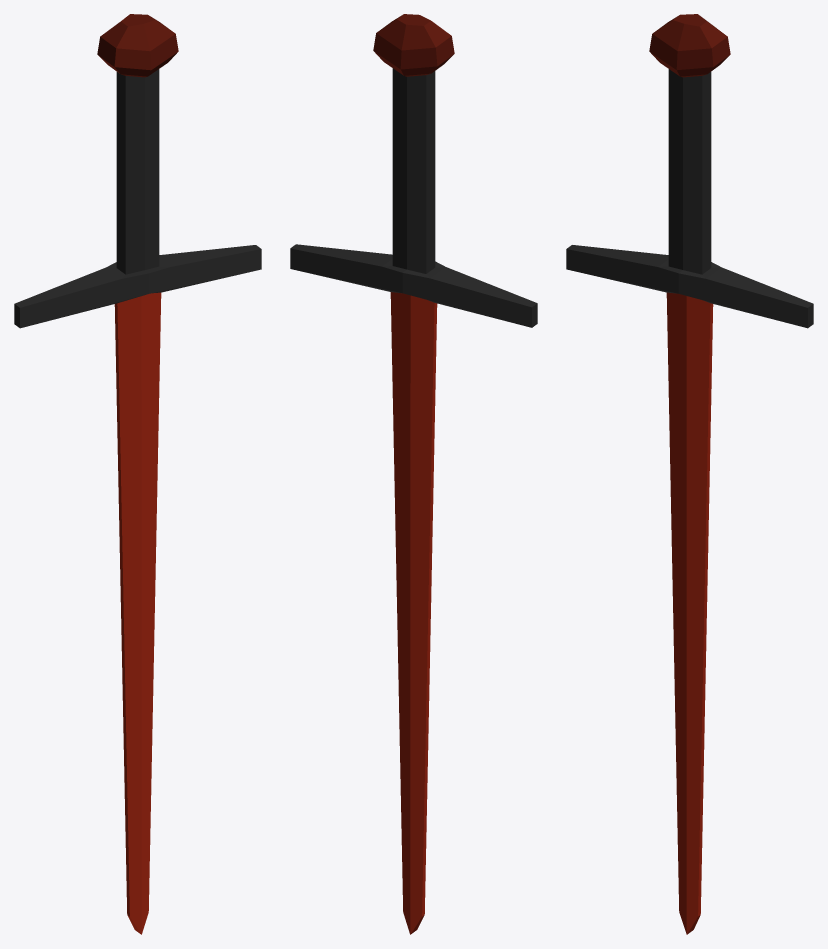
3 views of the same model, side by side, from view 1: azimuth 30°, elevation 25°; view 2: azimuth 150°, elevation 25°; view 3: azimuth 330°, elevation 25° (orthographic).
Visible parts, largest first — view 1: ChallengeFight; view 2: ChallengeFight; view 3: ChallengeFight.
Boxes of the visible parts, left/top/right/bottom form: ChallengeFight: left=14, top=14, right=261, bottom=934; ChallengeFight: left=290, top=14, right=537, bottom=934; ChallengeFight: left=566, top=14, right=813, bottom=934.
Size of the model in its own units: 0.5947 by 2.15 by 0.1136.
Materials: 1 (1 with a texture image).
